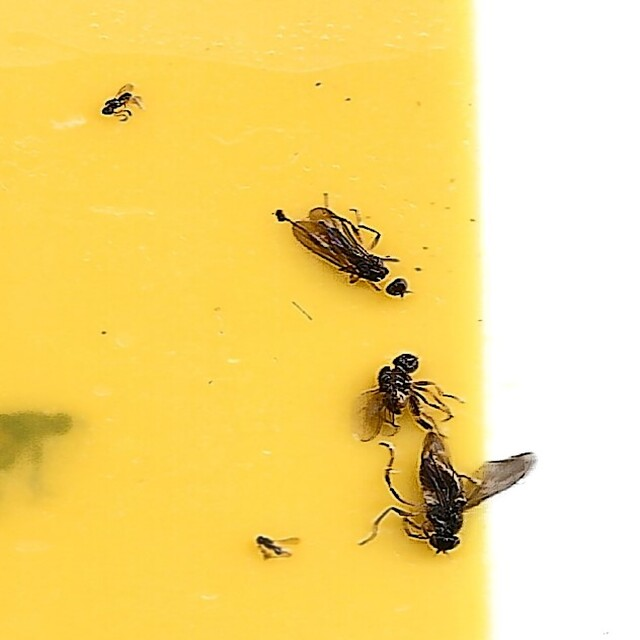Brachycera: (363, 433, 539, 557), (284, 203, 413, 301), (350, 350, 458, 440)
Hymenoptera: (101, 83, 145, 124)
